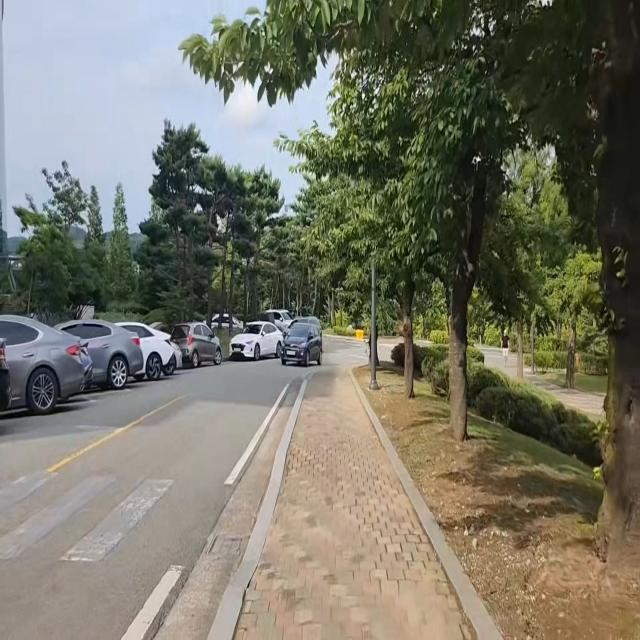obstacle: (0, 310, 224, 434), (228, 317, 286, 365), (277, 318, 323, 367)
road: (0, 364, 305, 640)
sidewalk: (209, 367, 500, 640)
